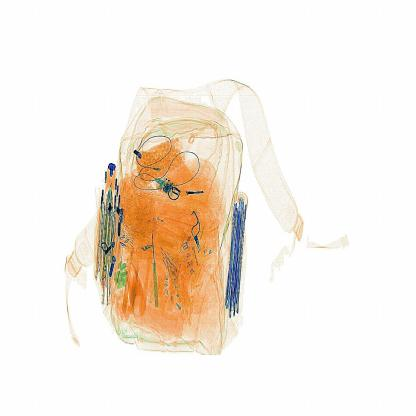wrench: (146, 226, 161, 314)
